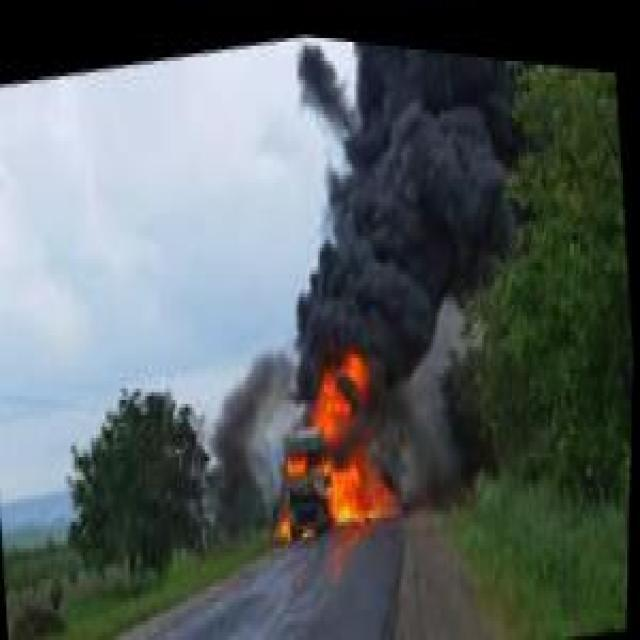Fire: (254, 320, 422, 556)
Smoke: (262, 27, 638, 392), (392, 343, 482, 529), (202, 339, 280, 549)
